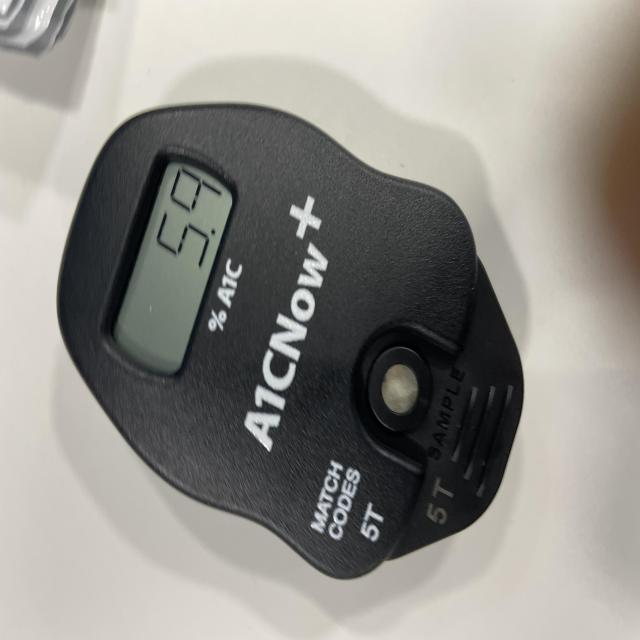hba1c: (55, 102, 525, 584)
